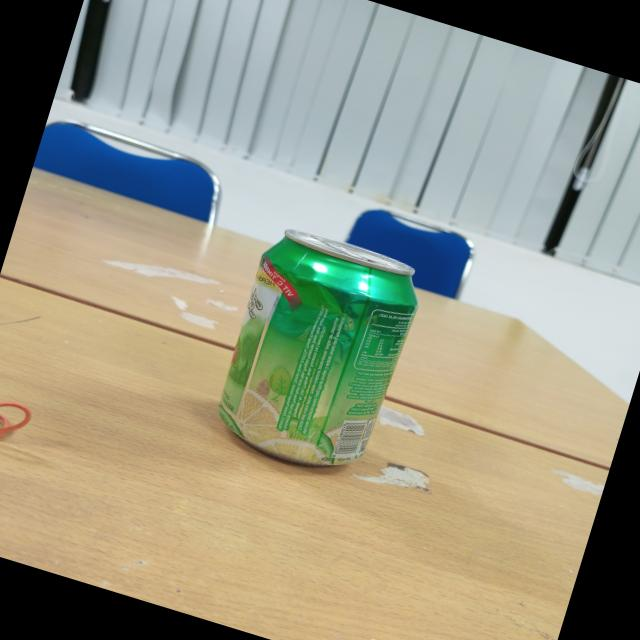ademsarikaleng: (204, 218, 431, 485)
